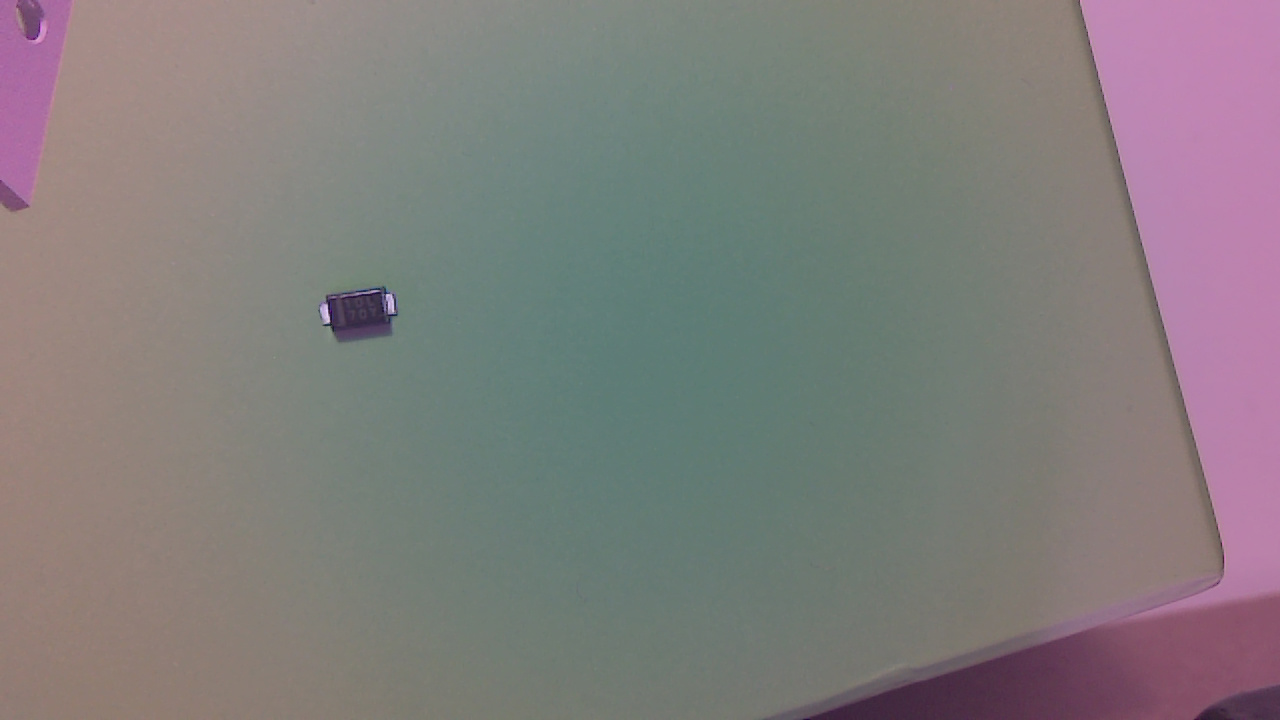Diode: (323, 292, 405, 340)
